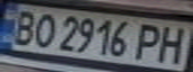1: (90, 17, 115, 56)
2: (54, 12, 81, 53)
6: (109, 18, 139, 58)
9: (72, 15, 96, 55)
B: (3, 7, 42, 46)
H: (151, 22, 193, 63)
O: (27, 10, 60, 49)
P: (130, 20, 169, 62)
